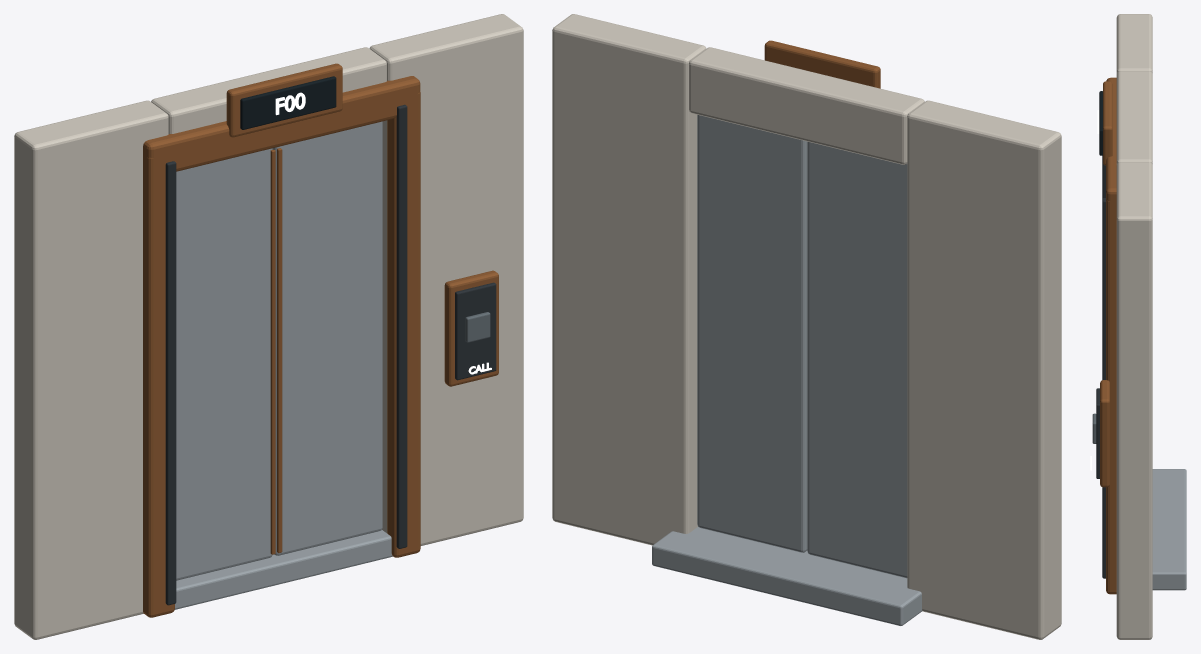
Rendered from HospitalInterior_E01_LandingPortal_R03.fbx.
The picture shows the model from 3 angles, left to right: view 1: azimuth 30°, elevation 25°; view 2: azimuth 150°, elevation 25°; view 3: azimuth 270°, elevation 25°; orthographic projection. The views are drawn at different scales.
Parts seen in each view (by area): view 1: S3A_R03_E01_LandingWall_L, S3A_R03_E01_LandingWall_R, S3A_R03_E01_LandingDoor_R, S3A_R03_E01_LandingDoor_L, S3A_R03_E01_LandingFrame_R, S3A_R03_E01_LandingFrame_L, S3A_R03_E01_LandingFrame_Header, S3A_R03_E01_LandingThreshold, S3A_R03_E01_LandingWall_Header, S3A_R03_E01_LandingFrame_L_CharcoalInset, S3A_R03_E01_LandingFrame_R_CharcoalInset, S3A_R03_E01_LandingCallPanel (+3 smaller); view 2: S3A_R03_E01_LandingWall_L, S3A_R03_E01_LandingWall_R, S3A_R03_E01_LandingDoor_R, S3A_R03_E01_LandingDoor_L, S3A_R03_E01_LandingWall_Header, S3A_R03_E01_LandingThreshold, S3A_R03_E01_LandingIndicatorFrame; view 3: S3A_R03_E01_LandingWall_R, S3A_R03_E01_LandingThreshold, S3A_R03_E01_LandingFrame_R, S3A_R03_E01_LandingWall_Header, S3A_R03_E01_LandingWall_L, S3A_R03_E01_LandingFrame_R_CharcoalInset, S3A_R03_E01_LandingCallPanelFrame, S3A_R03_E01_LandingFrame_Header, S3A_R03_E01_LandingIndicatorFrame, S3A_R03_E01_LandingCallPanel, S3A_R03_E01_LandingIndicator.
Part boxes in pixels (box(x1,y1,x2,y2)): S3A_R03_E01_LandingWall_L: box(14, 100, 168, 639); S3A_R03_E01_LandingWall_R: box(369, 14, 523, 545); S3A_R03_E01_LandingDoor_R: box(272, 121, 382, 555); S3A_R03_E01_LandingDoor_L: box(176, 148, 275, 580); S3A_R03_E01_LandingFrame_R: box(387, 91, 420, 557); S3A_R03_E01_LandingFrame_L: box(143, 155, 174, 617); S3A_R03_E01_LandingFrame_Header: box(143, 76, 420, 174); S3A_R03_E01_LandingThreshold: box(174, 530, 392, 609); S3A_R03_E01_LandingWall_Header: box(151, 47, 386, 133); S3A_R03_E01_LandingFrame_L_CharcoalInset: box(165, 161, 176, 605); S3A_R03_E01_LandingFrame_R_CharcoalInset: box(396, 104, 407, 548); S3A_R03_E01_LandingCallPanel: box(455, 282, 496, 380); S3A_R03_E01_LandingWall_L: box(907, 100, 1061, 639); S3A_R03_E01_LandingWall_R: box(552, 14, 706, 545); S3A_R03_E01_LandingDoor_R: box(697, 115, 807, 552); S3A_R03_E01_LandingDoor_L: box(807, 141, 907, 578); S3A_R03_E01_LandingWall_Header: box(689, 47, 924, 164); S3A_R03_E01_LandingThreshold: box(652, 527, 922, 625); S3A_R03_E01_LandingIndicatorFrame: box(764, 40, 880, 88); S3A_R03_E01_LandingWall_R: box(1116, 162, 1152, 639); S3A_R03_E01_LandingThreshold: box(1152, 469, 1186, 590); S3A_R03_E01_LandingFrame_R: box(1106, 200, 1116, 594); S3A_R03_E01_LandingWall_Header: box(1116, 71, 1152, 164); S3A_R03_E01_LandingWall_L: box(1116, 14, 1152, 73); S3A_R03_E01_LandingFrame_R_CharcoalInset: box(1102, 198, 1105, 578); S3A_R03_E01_LandingCallPanelFrame: box(1100, 380, 1109, 487); S3A_R03_E01_LandingFrame_Header: box(1106, 77, 1116, 215); S3A_R03_E01_LandingIndicatorFrame: box(1103, 81, 1112, 165); S3A_R03_E01_LandingCallPanel: box(1096, 388, 1099, 478); S3A_R03_E01_LandingIndicator: box(1099, 91, 1102, 155).
Size of the model in its own units: 2.7 by 2.67 by 0.538.
